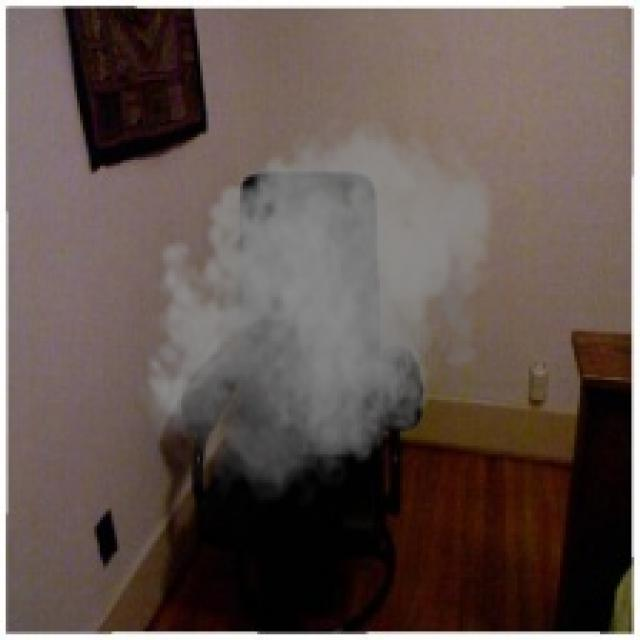smoke: (134, 109, 500, 514)
